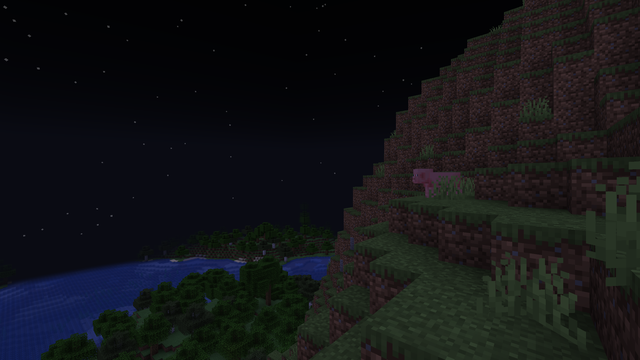cochons: (423, 171, 458, 199)
